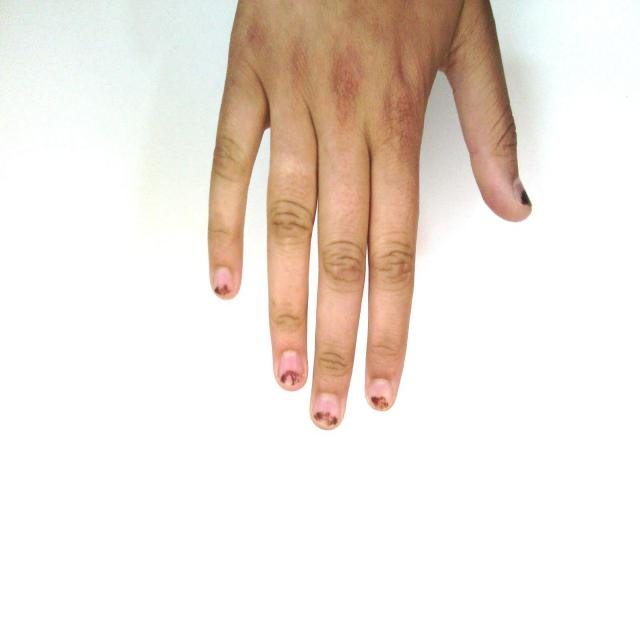others: (154, 0, 607, 446)
